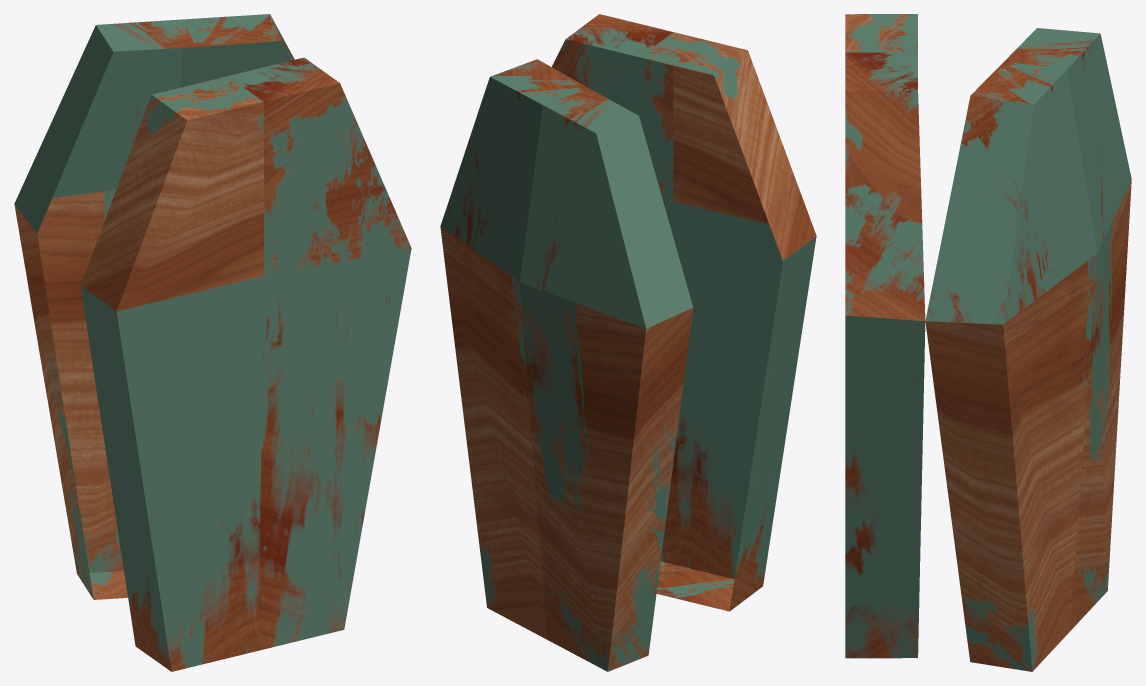
File: OpenCasket_Ready.fbx
3 views of the same model, side by side, from view 1: azimuth 30°, elevation 25°; view 2: azimuth 150°, elevation 25°; view 3: azimuth 270°, elevation 25° (orthographic). The views are drawn at different scales.
Parts seen in each view (by area): view 1: Open Casket; view 2: Open Casket; view 3: Open Casket.
Boxes of the visible parts, x1,y1,x2,y2 form: Open Casket: (14, 14, 411, 671); Open Casket: (440, 14, 816, 671); Open Casket: (845, 14, 1131, 671).
Bounding box in the file's own units: 247 × 419 × 191.
